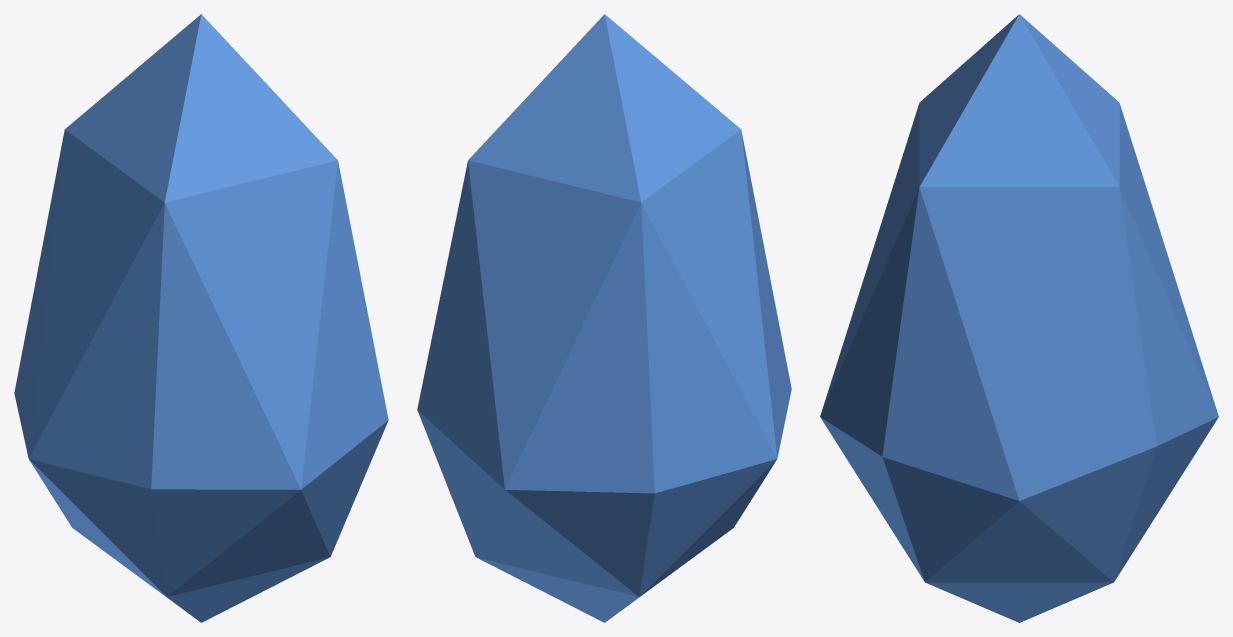
Rendered from cry_blue.fbx.
3 renders of one model, left to right at view 1: azimuth 30°, elevation 25°; view 2: azimuth 150°, elevation 25°; view 3: azimuth 270°, elevation 25°, orthographic.
Parts seen in each view (by area): view 1: cry_blue; view 2: cry_blue; view 3: cry_blue.
Part boxes in pixels (x1,y1,x2,y2): cry_blue: [14, 14, 388, 622]; cry_blue: [417, 14, 791, 622]; cry_blue: [820, 14, 1218, 622].
Bounding box in the file's own units: 0.7652 × 1.29 × 0.7652.
